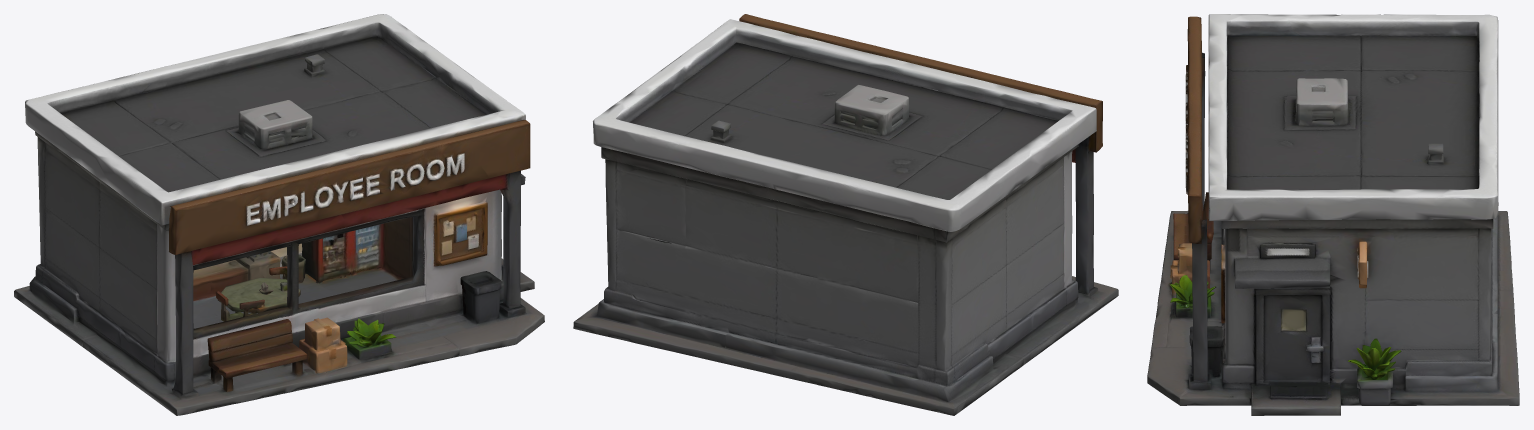
Rendered from employee_room_1k_real.glb.
3 renders of one model, left to right at view 1: azimuth 30°, elevation 25°; view 2: azimuth 150°, elevation 25°; view 3: azimuth 270°, elevation 25°, orthographic. The views are drawn at different scales.
Visible parts, largest first — view 1: tripo_node_3501e675-a9dc-484b-a097-5185ede6bf3b; view 2: tripo_node_3501e675-a9dc-484b-a097-5185ede6bf3b; view 3: tripo_node_3501e675-a9dc-484b-a097-5185ede6bf3b.
Boxes of the visible parts, box(x1,y1,x2,y2) form: tripo_node_3501e675-a9dc-484b-a097-5185ede6bf3b: box(14, 14, 544, 415); tripo_node_3501e675-a9dc-484b-a097-5185ede6bf3b: box(573, 14, 1118, 415); tripo_node_3501e675-a9dc-484b-a097-5185ede6bf3b: box(1147, 14, 1519, 415).
Size of the model in its own units: 1 by 0.4992 by 0.7869.
1 material, 1 textured.
